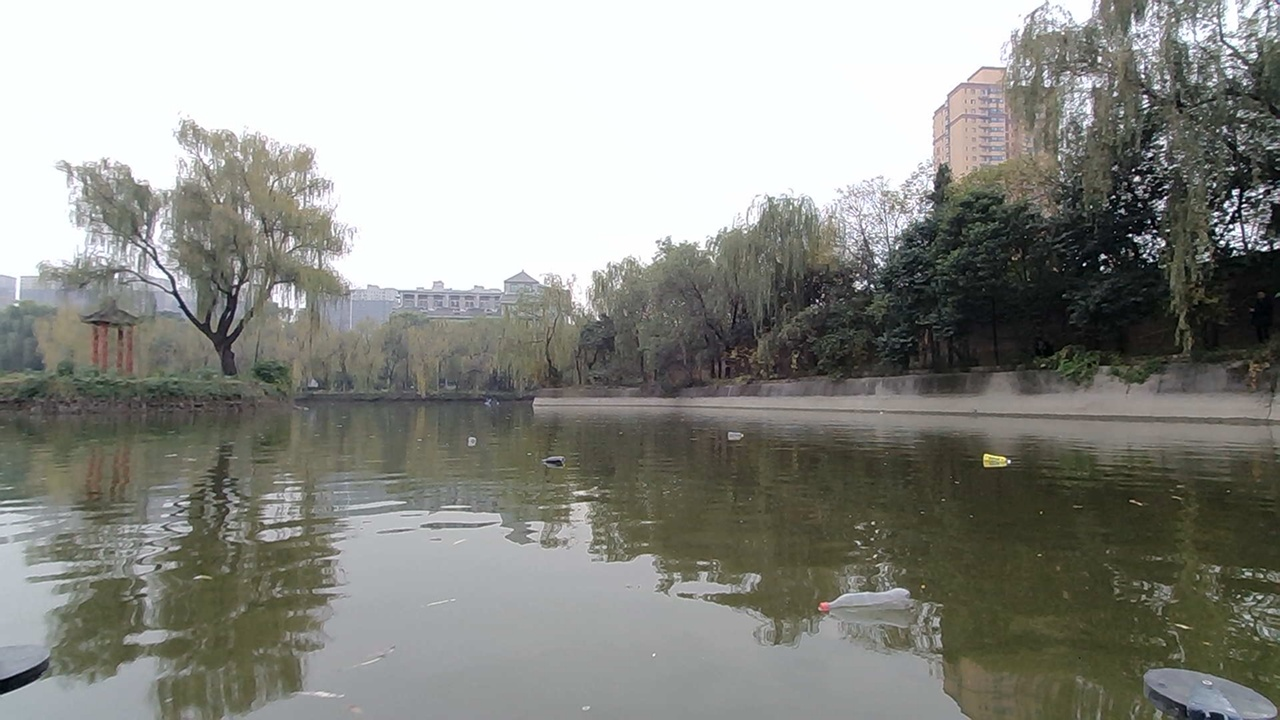bottle: (828, 564, 913, 640), (523, 431, 584, 472), (450, 420, 498, 451), (976, 442, 1009, 476), (716, 420, 755, 444)
